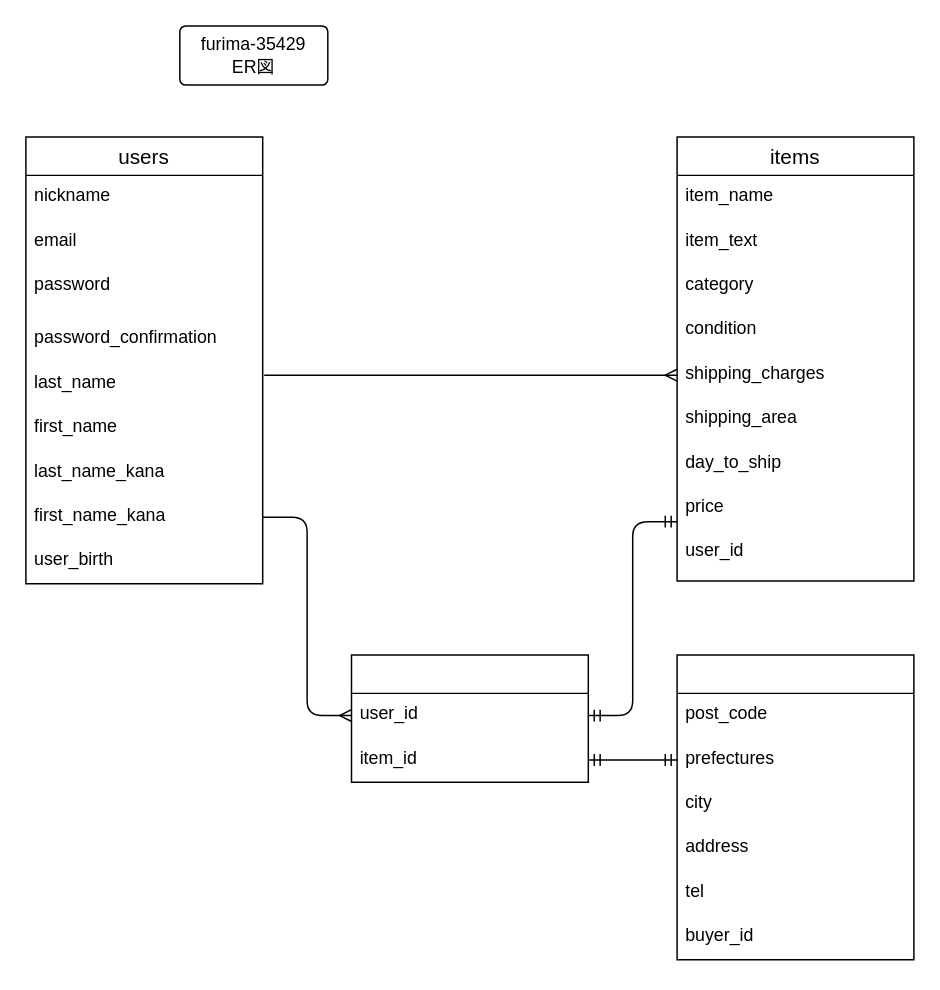
Some shapes in this 940 by 990 pixel diagram are drawn without their labels. The shapes that lost their labels are listed below. From the top down, each one's box as (x1, y1, x2, y2) in pixels, then its label:
(350, 653, 588, 782): records
(676, 653, 914, 960): buyers
